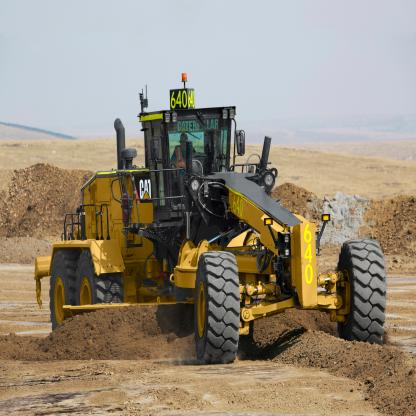bull_dozer/loader/grader: (46, 78, 399, 378)
